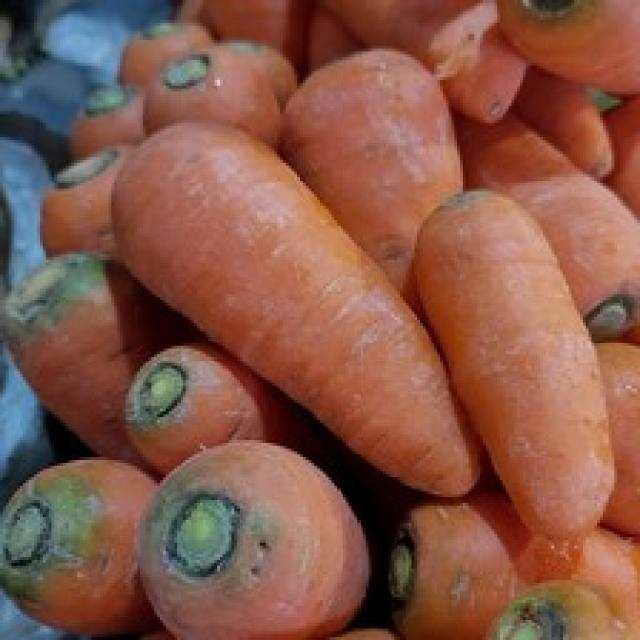Fresh_Carrot: (117, 124, 492, 474), (425, 193, 603, 539)
